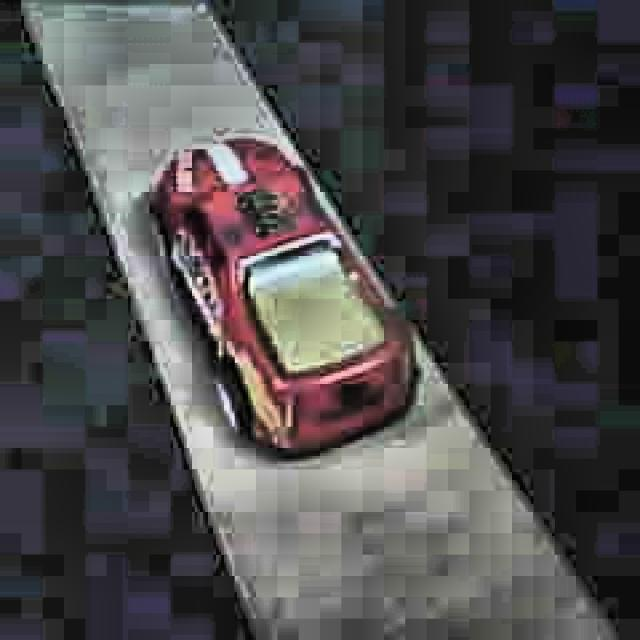car: (147, 135, 422, 463)
